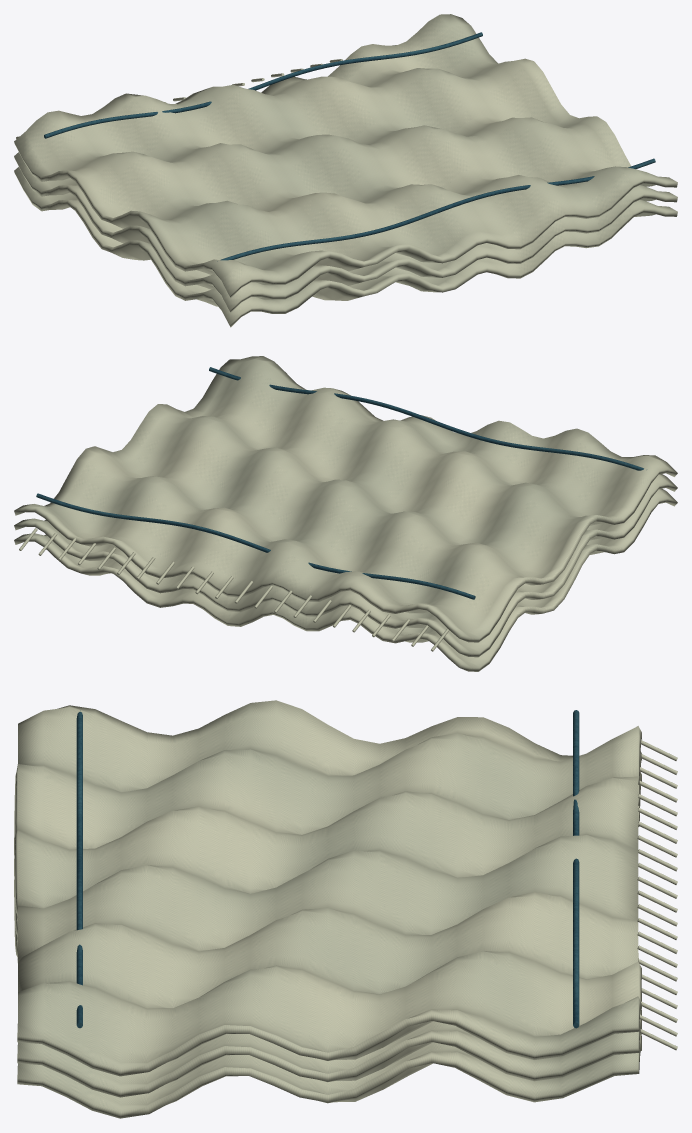
The model's file is FoldedTowel.fbx.
3 renders of one model, top to bottom at view 1: azimuth 30°, elevation 25°; view 2: azimuth 150°, elevation 25°; view 3: azimuth 270°, elevation 25°, orthographic. The views are drawn at different scales.
Visible parts, largest first — view 1: FoldedTowel_Towel, FoldedTowel_BlueGlaze; view 2: FoldedTowel_Towel, FoldedTowel_BlueGlaze; view 3: FoldedTowel_Towel, FoldedTowel_BlueGlaze.
Boxes of the visible parts, x1,y1,x2,y2 form: FoldedTowel_Towel: (14,14,677,327); FoldedTowel_BlueGlaze: (44,32,655,261); FoldedTowel_Towel: (14,356,677,671); FoldedTowel_BlueGlaze: (36,367,643,599); FoldedTowel_Towel: (14,700,677,1118); FoldedTowel_BlueGlaze: (76,710,579,1028).
Size of the model in its own units: 48.5 by 7.7 by 42.81.
